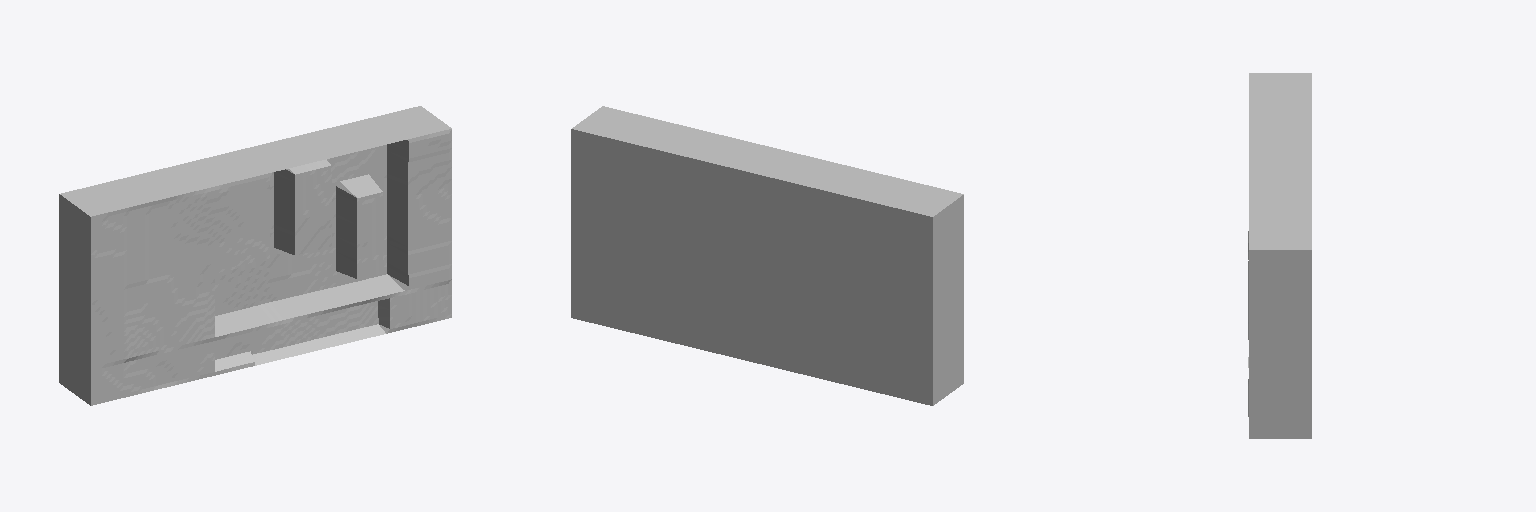
The model's file is rectangular_prism_bumps_7_9.obj.
The picture shows the model from 3 angles: view 1: azimuth 30°, elevation 25°; view 2: azimuth 150°, elevation 25°; view 3: azimuth 270°, elevation 25°; orthographic projection.
Size of the model in its own units: 10 by 5 by 1.52.